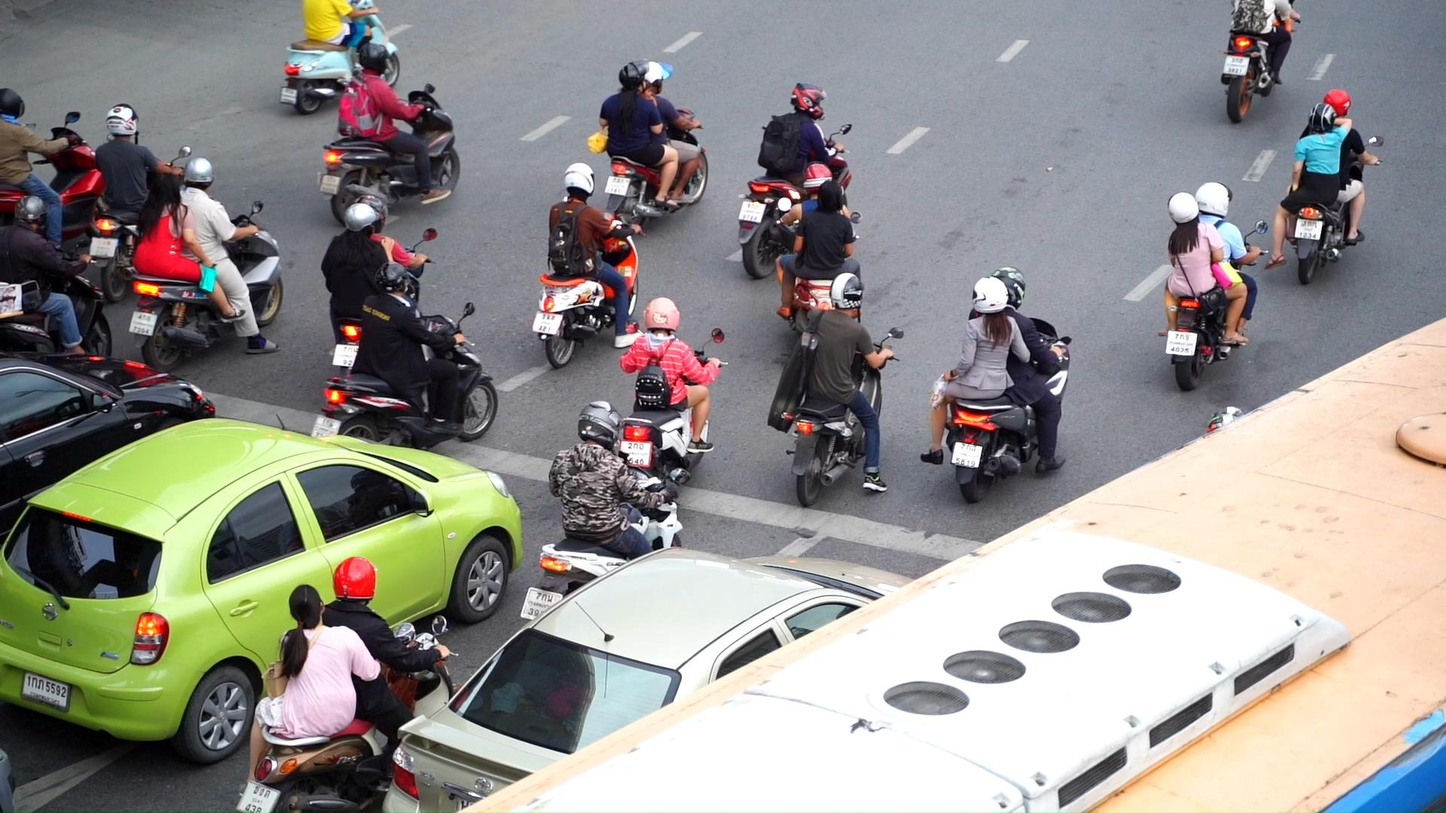driver: (235, 557, 460, 813), (920, 267, 1073, 504), (521, 401, 684, 622), (310, 262, 498, 450), (129, 156, 283, 373), (768, 272, 903, 508), (316, 43, 460, 228), (1263, 89, 1384, 285), (532, 163, 646, 368), (1158, 182, 1269, 391), (738, 82, 853, 280), (320, 195, 437, 376), (88, 103, 191, 303), (586, 59, 708, 227), (620, 298, 729, 486), (0, 195, 113, 358), (0, 88, 106, 247), (774, 161, 863, 337), (280, 0, 400, 115), (1221, 0, 1303, 123)
helmet: (578, 401, 625, 451), (334, 556, 375, 607), (990, 267, 1026, 310), (973, 276, 1009, 317), (643, 298, 681, 336), (1195, 182, 1233, 220), (791, 82, 828, 121), (344, 202, 380, 239), (829, 272, 864, 310), (353, 195, 386, 233), (374, 262, 409, 297), (564, 163, 595, 201), (15, 195, 48, 230), (358, 43, 391, 78), (802, 161, 833, 198), (106, 103, 139, 137), (619, 59, 649, 96), (1167, 191, 1199, 225), (183, 157, 214, 191), (645, 61, 674, 94), (1308, 103, 1337, 135), (1323, 88, 1351, 118), (0, 88, 25, 120)
no-helmet: (290, 584, 325, 630), (149, 173, 181, 203), (818, 179, 843, 213)
